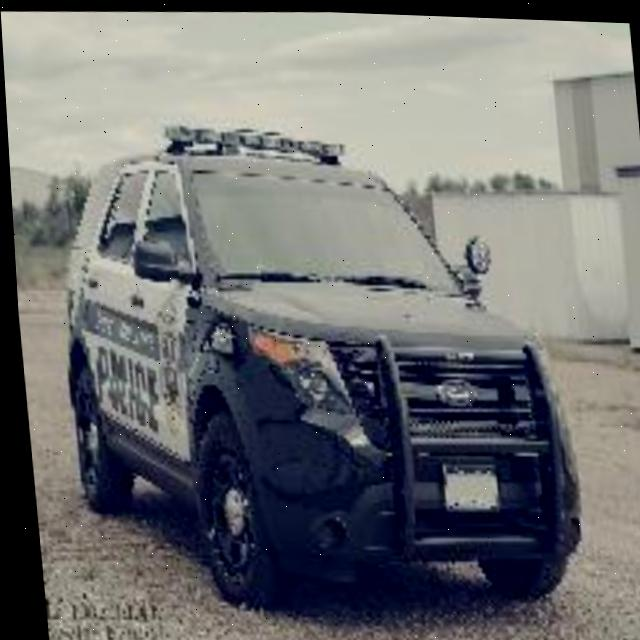emergency: (58, 106, 572, 617)
